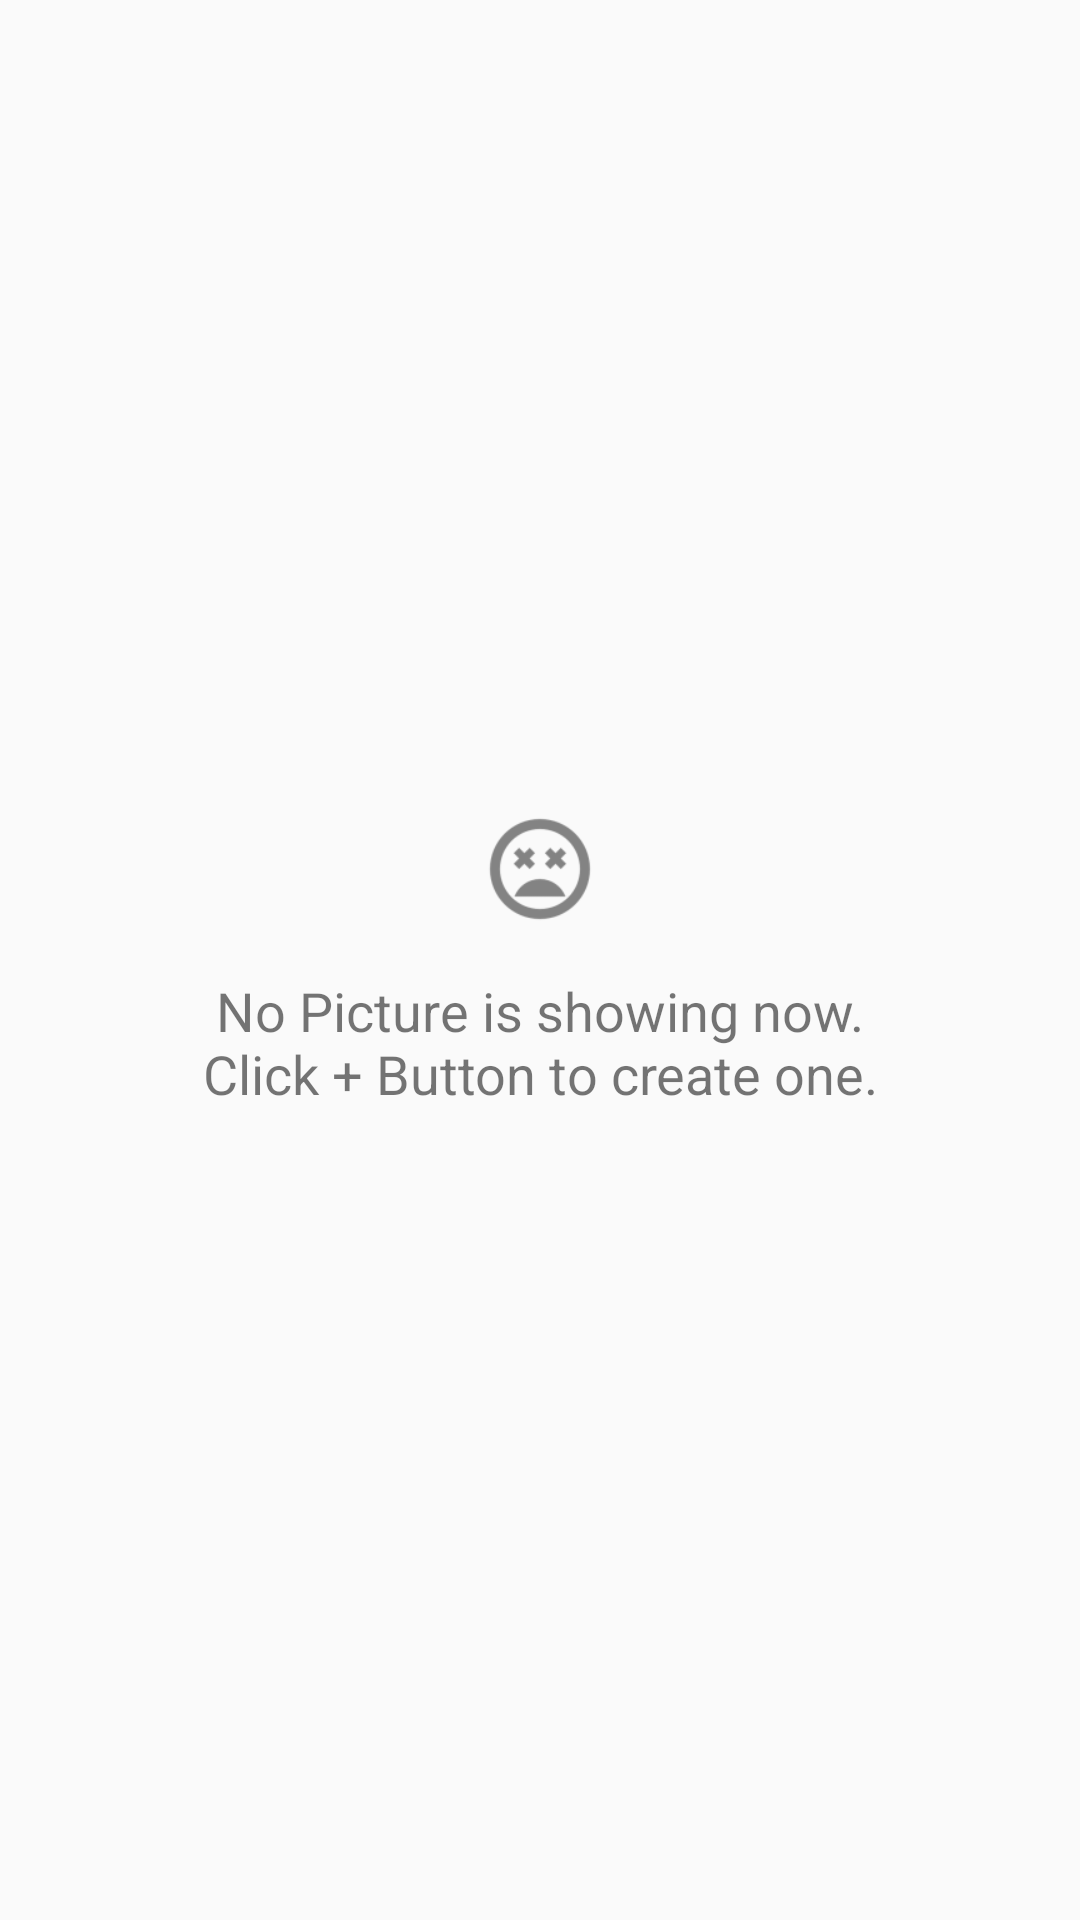

Screen size 1080px×1920px. Icon name, then its center in pixels as point (x, y):
list empty: point (540, 869)
